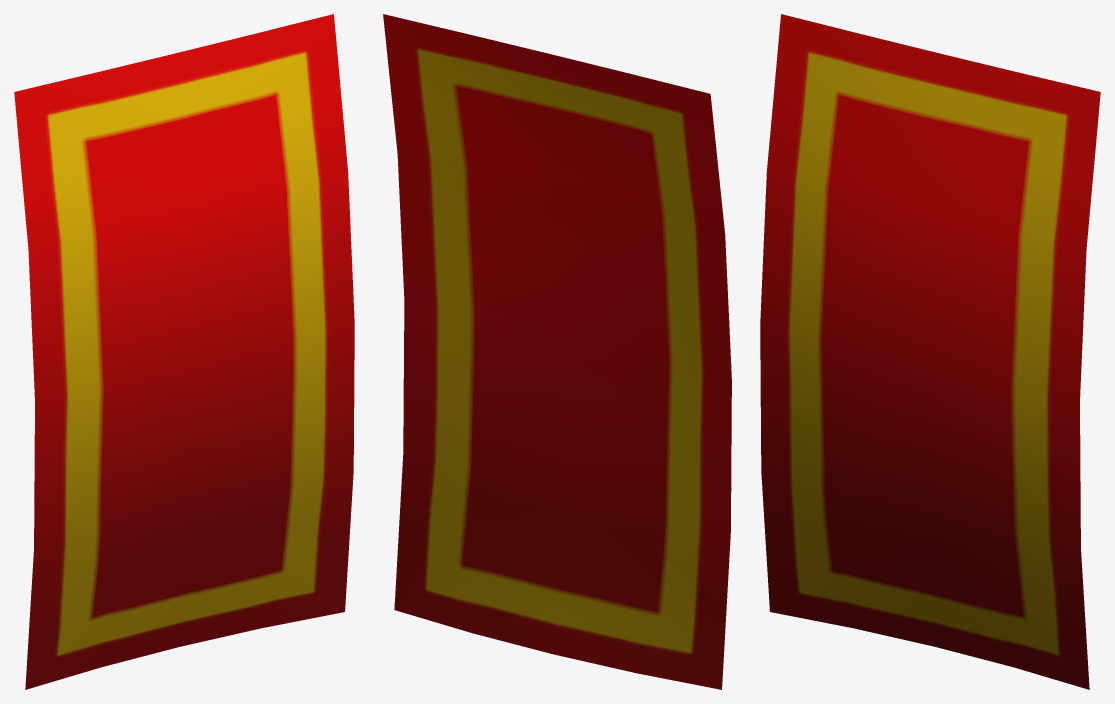
Rendered from PROP_017_Banner.fbx.
The picture shows the model from 3 angles, left to right: view 1: azimuth 30°, elevation 25°; view 2: azimuth 150°, elevation 25°; view 3: azimuth 330°, elevation 25°; orthographic projection. The views are drawn at different scales.
Visible parts, largest first — view 1: PROP_017_Banner; view 2: PROP_017_Banner; view 3: PROP_017_Banner.
Boxes of the visible parts, x1,y1,x2,y2 form: PROP_017_Banner: (14, 14, 354, 689); PROP_017_Banner: (383, 14, 731, 689); PROP_017_Banner: (760, 14, 1100, 689).
Bounding box in the file's own units: 14.49 × 25.54 × 2.12.
